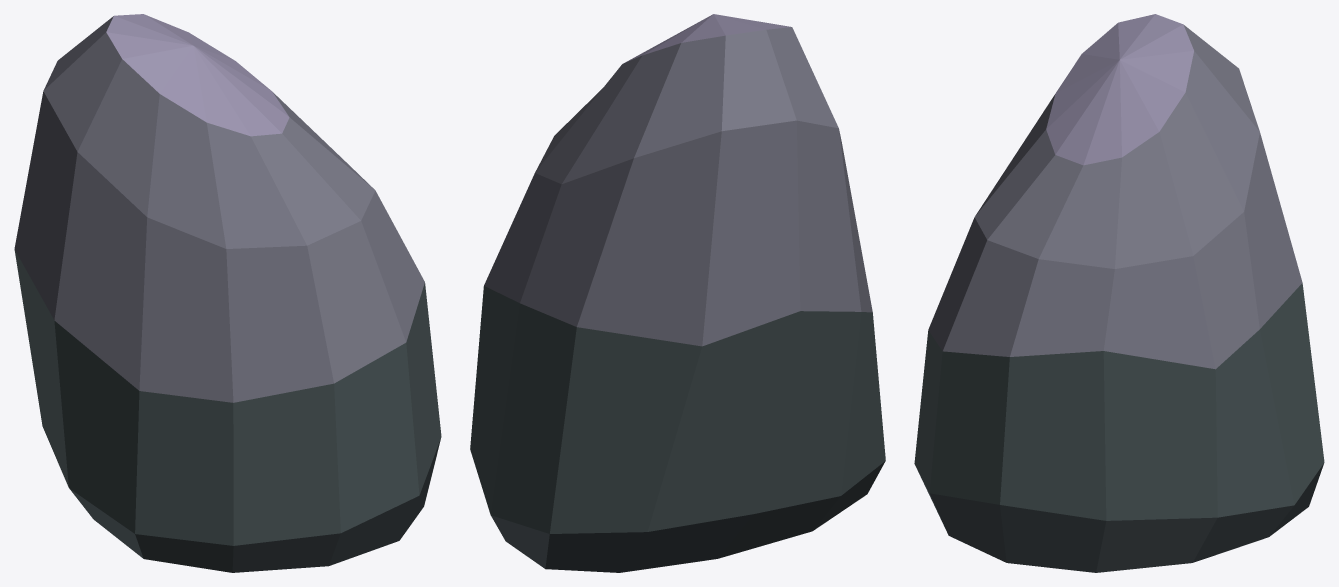
The model's file is Rock_02.fbx.
The picture shows the model from 3 angles, left to right: view 1: azimuth 30°, elevation 25°; view 2: azimuth 150°, elevation 25°; view 3: azimuth 270°, elevation 25°; orthographic projection. The views are drawn at different scales.
Visible parts, largest first — view 1: Stone 02.001; view 2: Stone 02.001; view 3: Stone 02.001.
Boxes of the visible parts, x1,y1,x2,y2 form: Stone 02.001: (14,14,441,572); Stone 02.001: (470,14,885,572); Stone 02.001: (914,14,1324,572).
Size of the model in its own units: 412 by 553 by 464.
